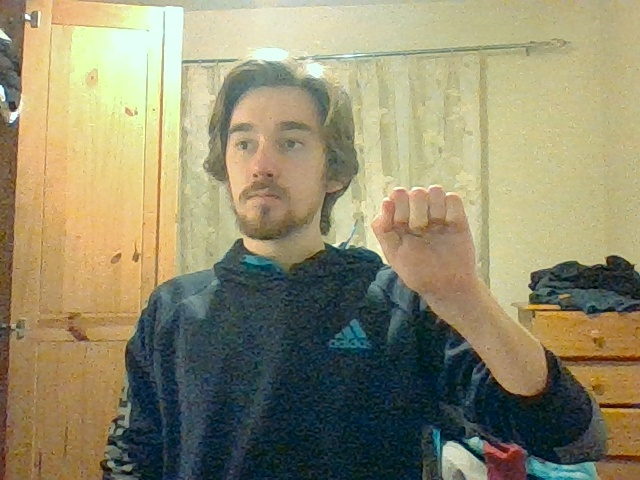your: (371, 184, 475, 281)
